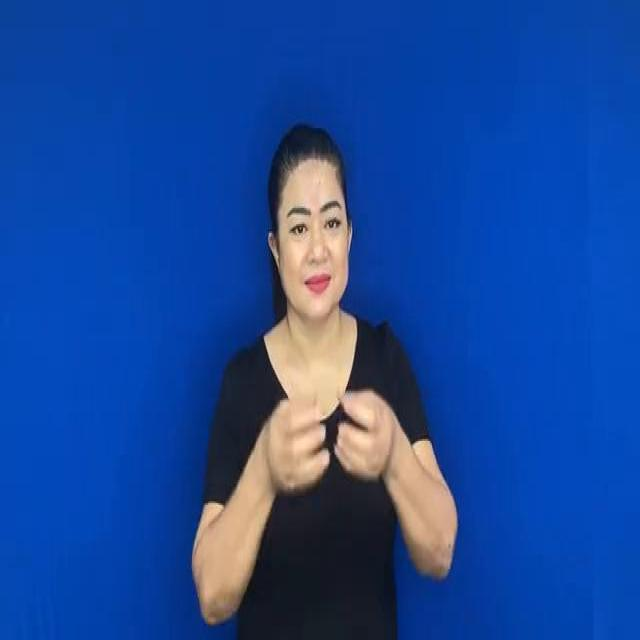egg: (249, 356, 406, 512)
